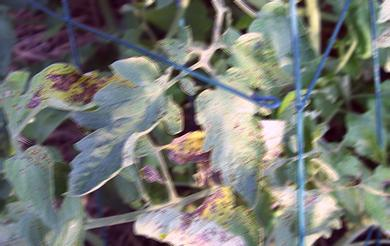Tomato Septoria leaf spot: (57, 57, 190, 198), (191, 68, 271, 211), (0, 53, 106, 133), (270, 165, 341, 246), (5, 142, 61, 237), (133, 201, 248, 246), (194, 178, 265, 246), (222, 30, 293, 94), (158, 20, 199, 67)
